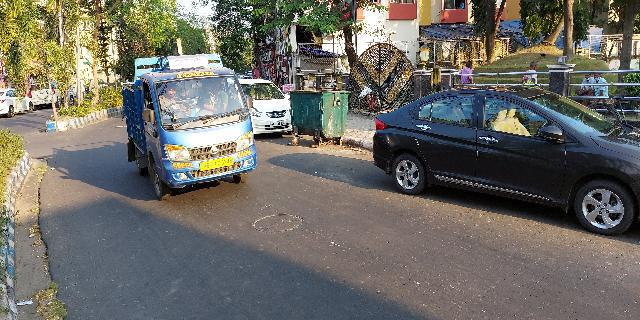Car: (364, 81, 639, 235), (238, 72, 294, 140)
Minitruck: (117, 55, 257, 200)
